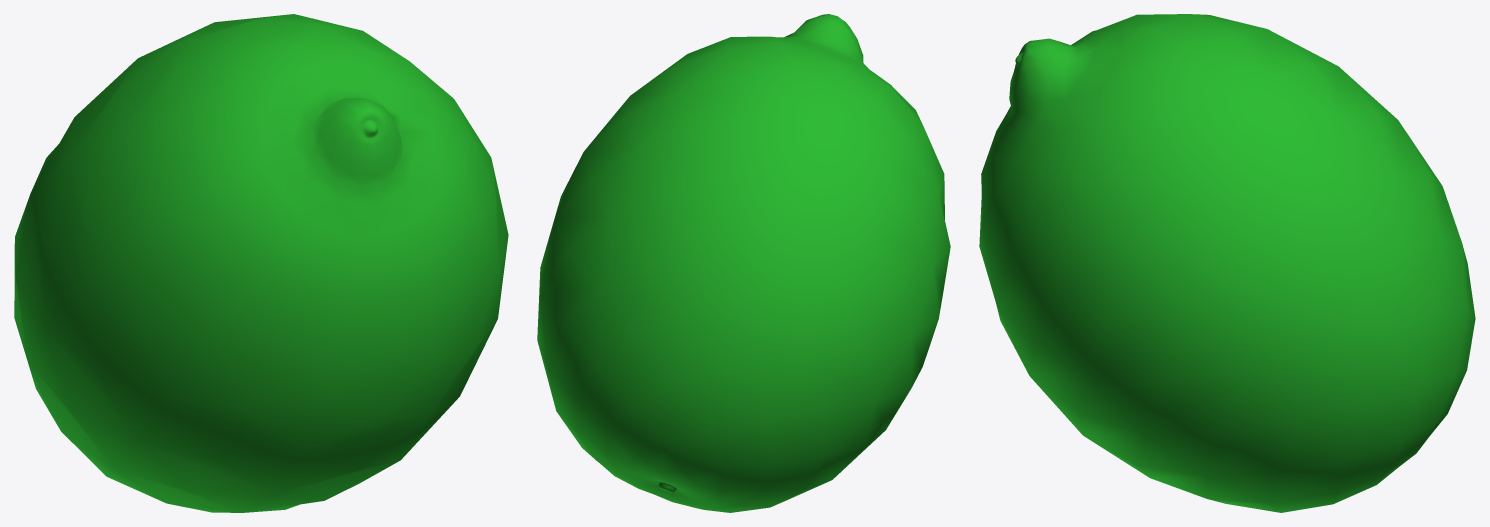
The picture shows the model from 3 angles, left to right: view 1: azimuth 30°, elevation 25°; view 2: azimuth 150°, elevation 25°; view 3: azimuth 270°, elevation 25°; orthographic projection. The views are drawn at different scales.
Parts seen in each view (by area): view 1: lime-fruit-001; view 2: lime-fruit-001; view 3: lime-fruit-001.
Boxes of the visible parts, x1,y1,x2,y2 form: lime-fruit-001: (14, 14, 508, 512); lime-fruit-001: (537, 14, 950, 512); lime-fruit-001: (979, 14, 1475, 512).
Bounding box in the file's own units: 79.58 × 90.4 × 87.43.
